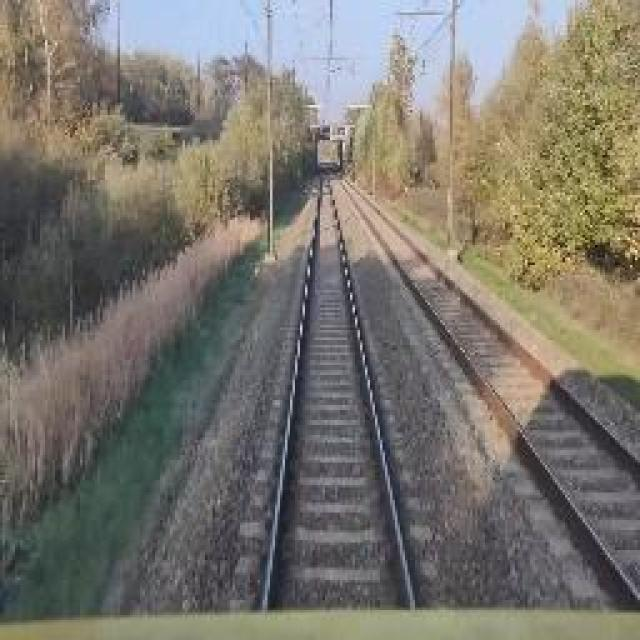rail: (327, 168, 640, 614), (225, 165, 449, 617)
